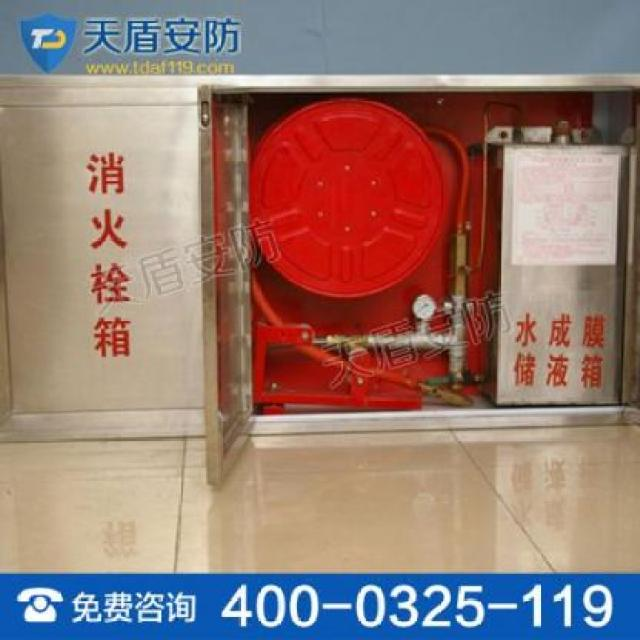firehydrant: (0, 72, 640, 495)
